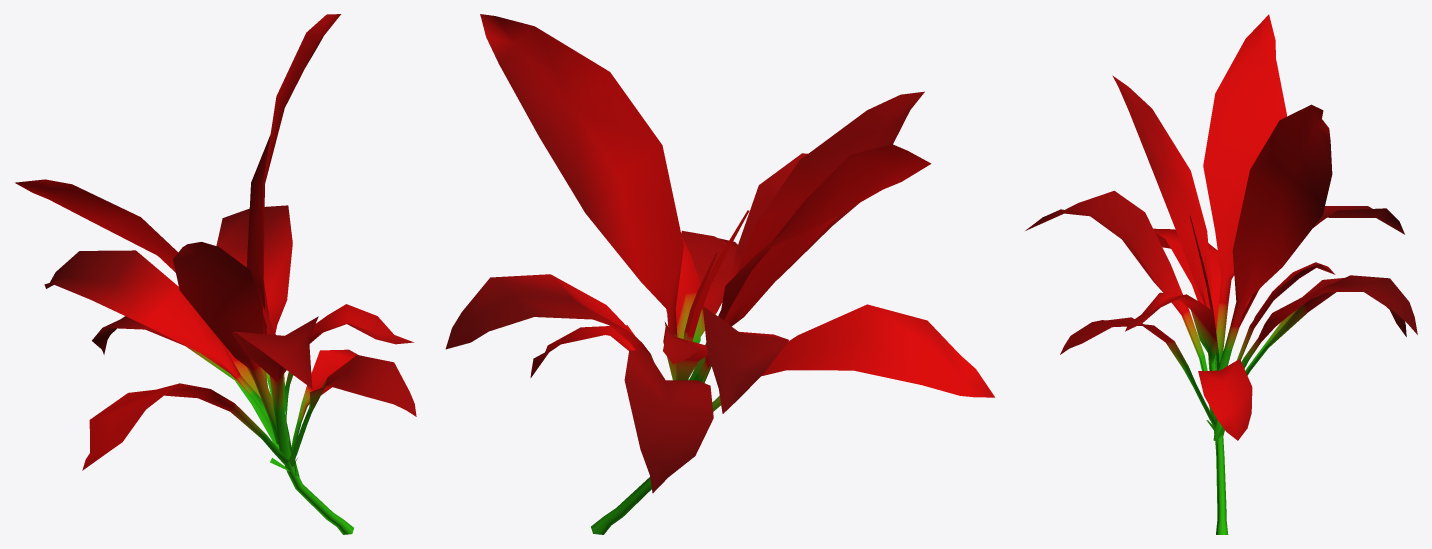
The model's file is Var1_LOD1.fbx.
The picture shows the model from 3 angles, left to right: view 1: azimuth 30°, elevation 25°; view 2: azimuth 150°, elevation 25°; view 3: azimuth 270°, elevation 25°; orthographic projection. The views are drawn at different scales.
Visible parts, largest first — view 1: _83b5_Var1_LOD1; view 2: _83b5_Var1_LOD1; view 3: _83b5_Var1_LOD1.
Boxes of the visible parts, x1,y1,x2,y2 form: _83b5_Var1_LOD1: [15, 14, 416, 534]; _83b5_Var1_LOD1: [445, 14, 994, 534]; _83b5_Var1_LOD1: [1025, 14, 1417, 534].
Bounding box in the file's own units: 26.95 × 33.96 × 27.5.
